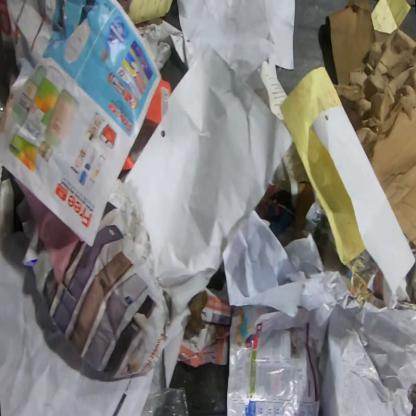cardboard: (368, 105, 415, 249), (326, 0, 392, 85), (121, 79, 173, 172), (134, 18, 187, 72), (293, 181, 315, 239)
rigid_plastic: (0, 98, 5, 126)
soft_plastic: (140, 385, 190, 416)
